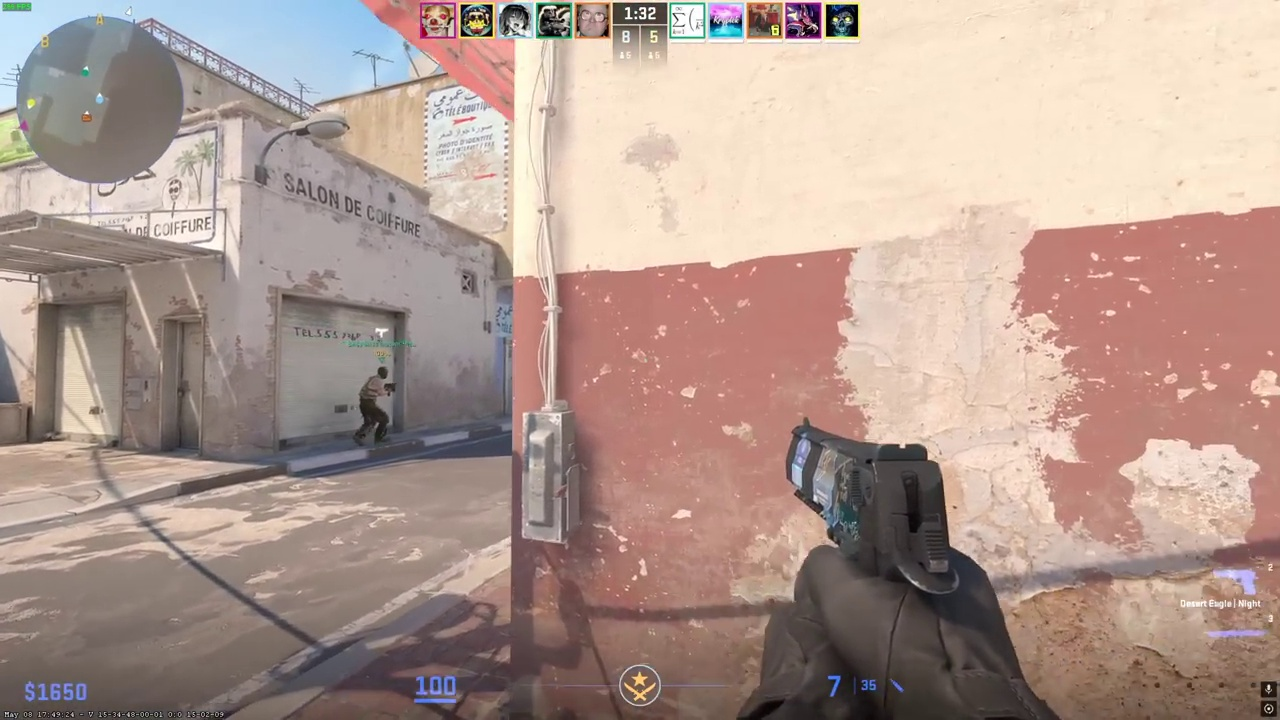Terrorist: (358, 366, 396, 447)
